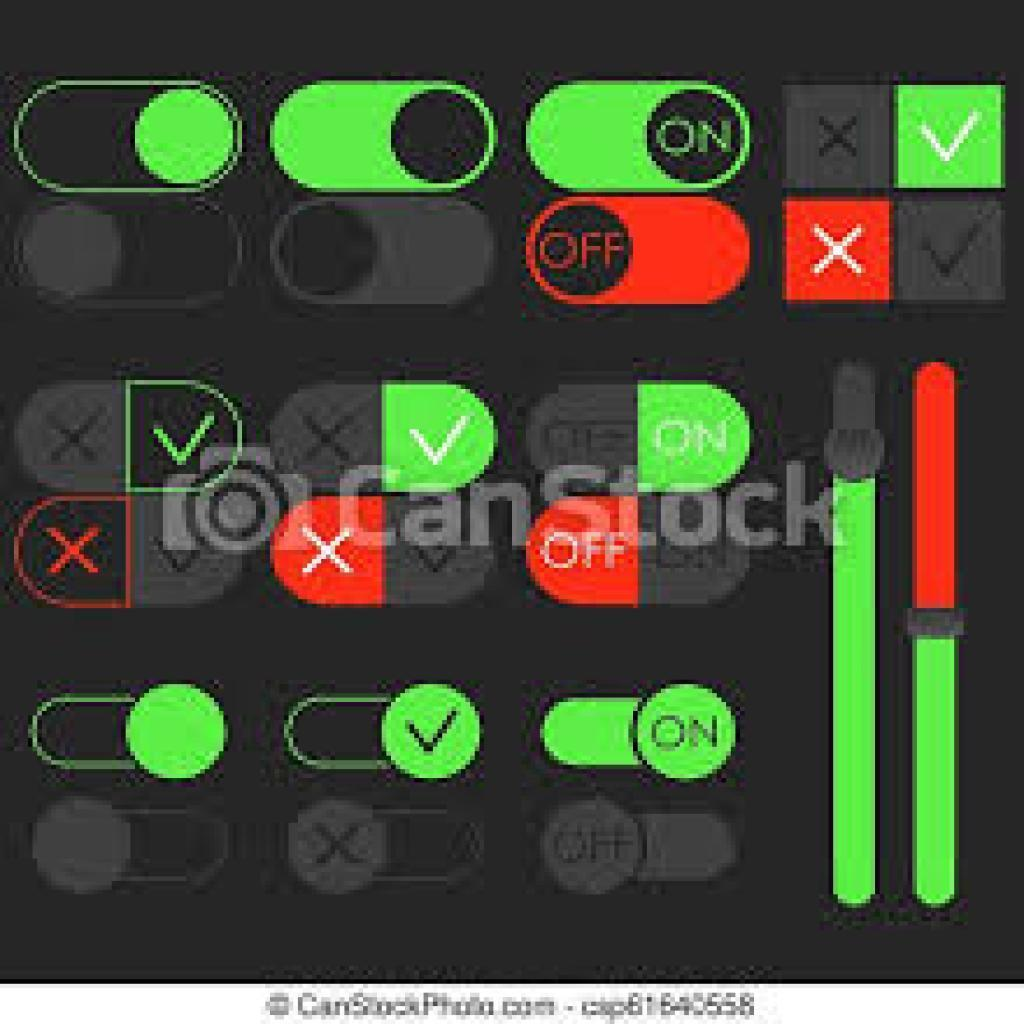checkbox: (890, 189, 1013, 318), (774, 69, 899, 193), (782, 197, 900, 312), (906, 66, 1010, 189)
slider: (827, 344, 888, 915), (910, 363, 972, 911)
switch: (8, 195, 265, 322), (511, 193, 770, 318), (6, 76, 266, 200), (514, 73, 757, 198), (268, 76, 511, 197), (268, 193, 504, 315), (16, 666, 237, 796), (531, 791, 771, 907), (279, 783, 503, 906), (521, 683, 774, 787), (11, 796, 248, 900), (282, 676, 490, 790)
